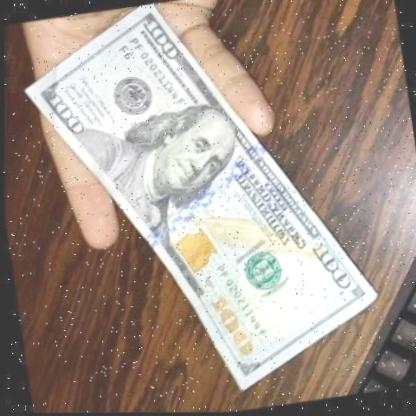one_hundred-front: (3, 0, 396, 416)
